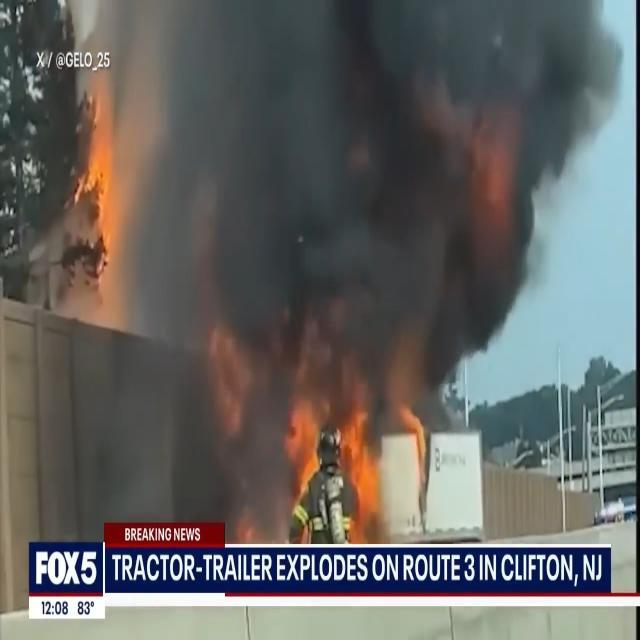fire: (70, 108, 125, 278), (278, 401, 318, 488), (357, 434, 392, 510)
